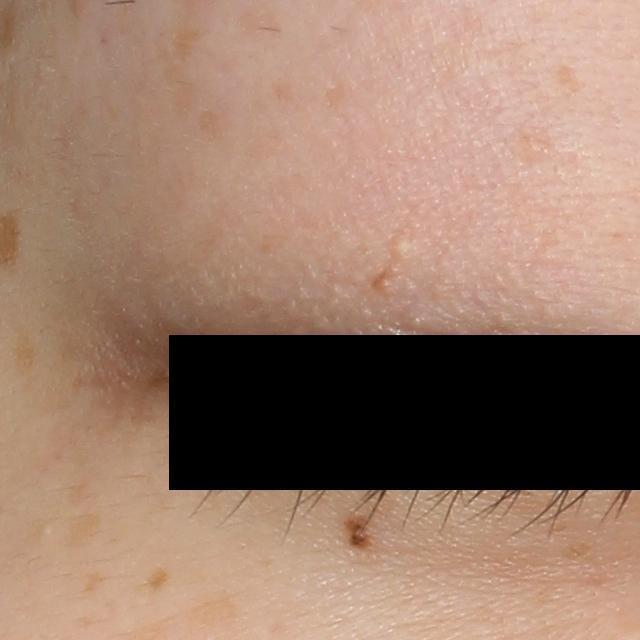melasma: (60, 507, 100, 553), (5, 327, 39, 377), (139, 562, 172, 595)
nevus: (335, 511, 371, 551)
